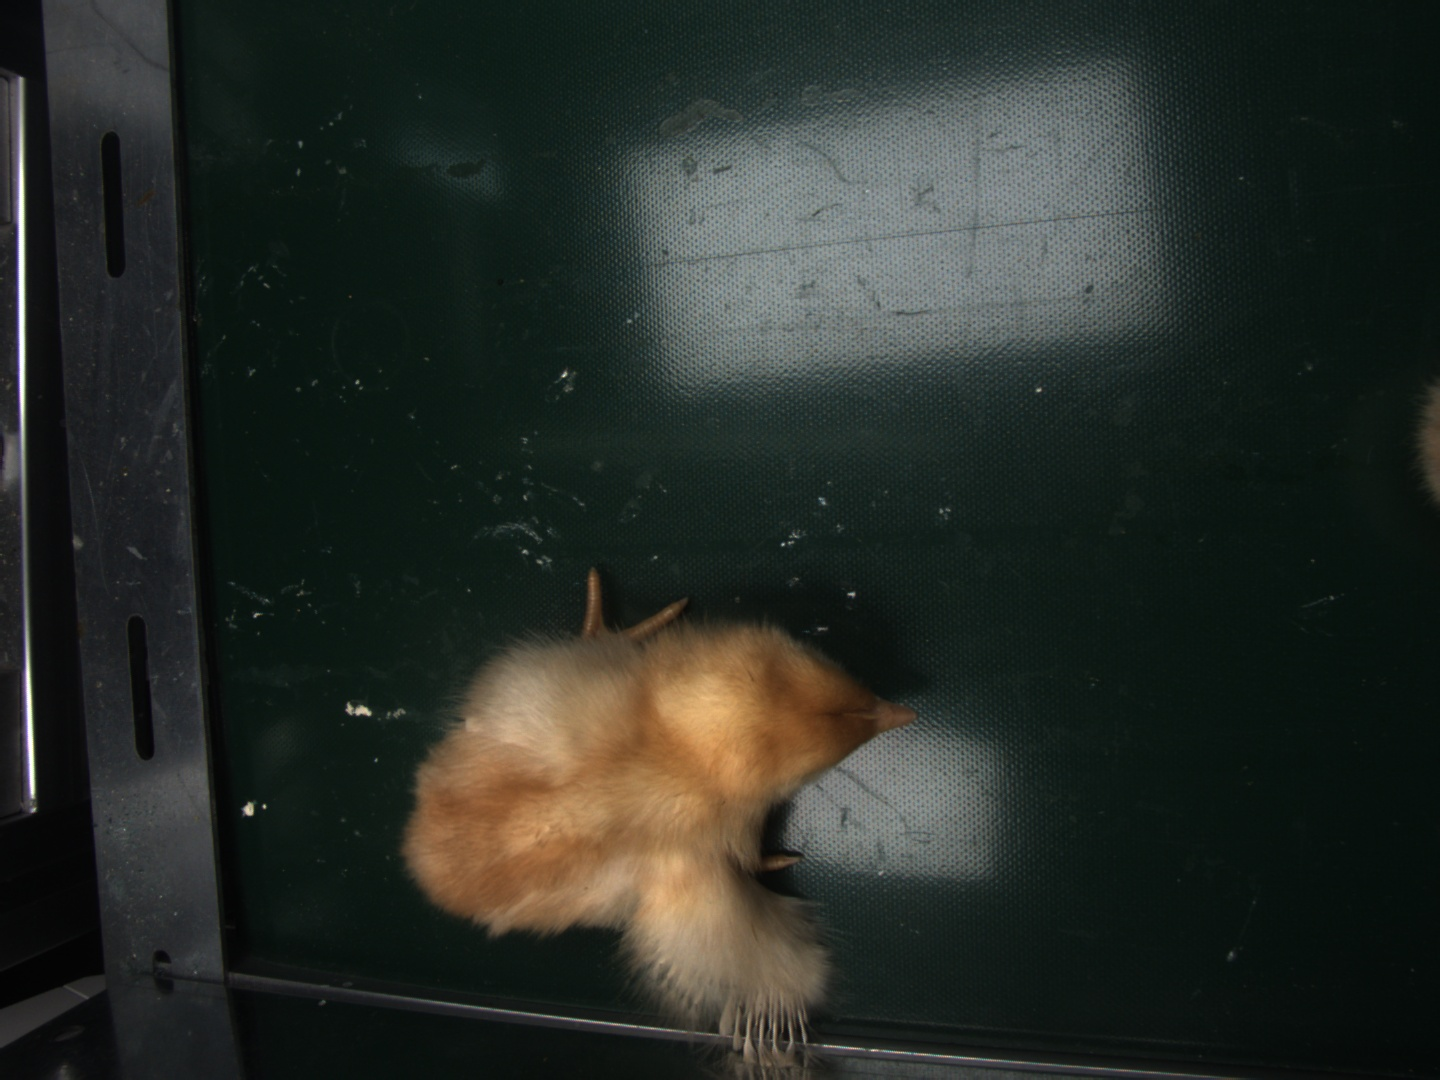female: (725, 992, 816, 1068)
